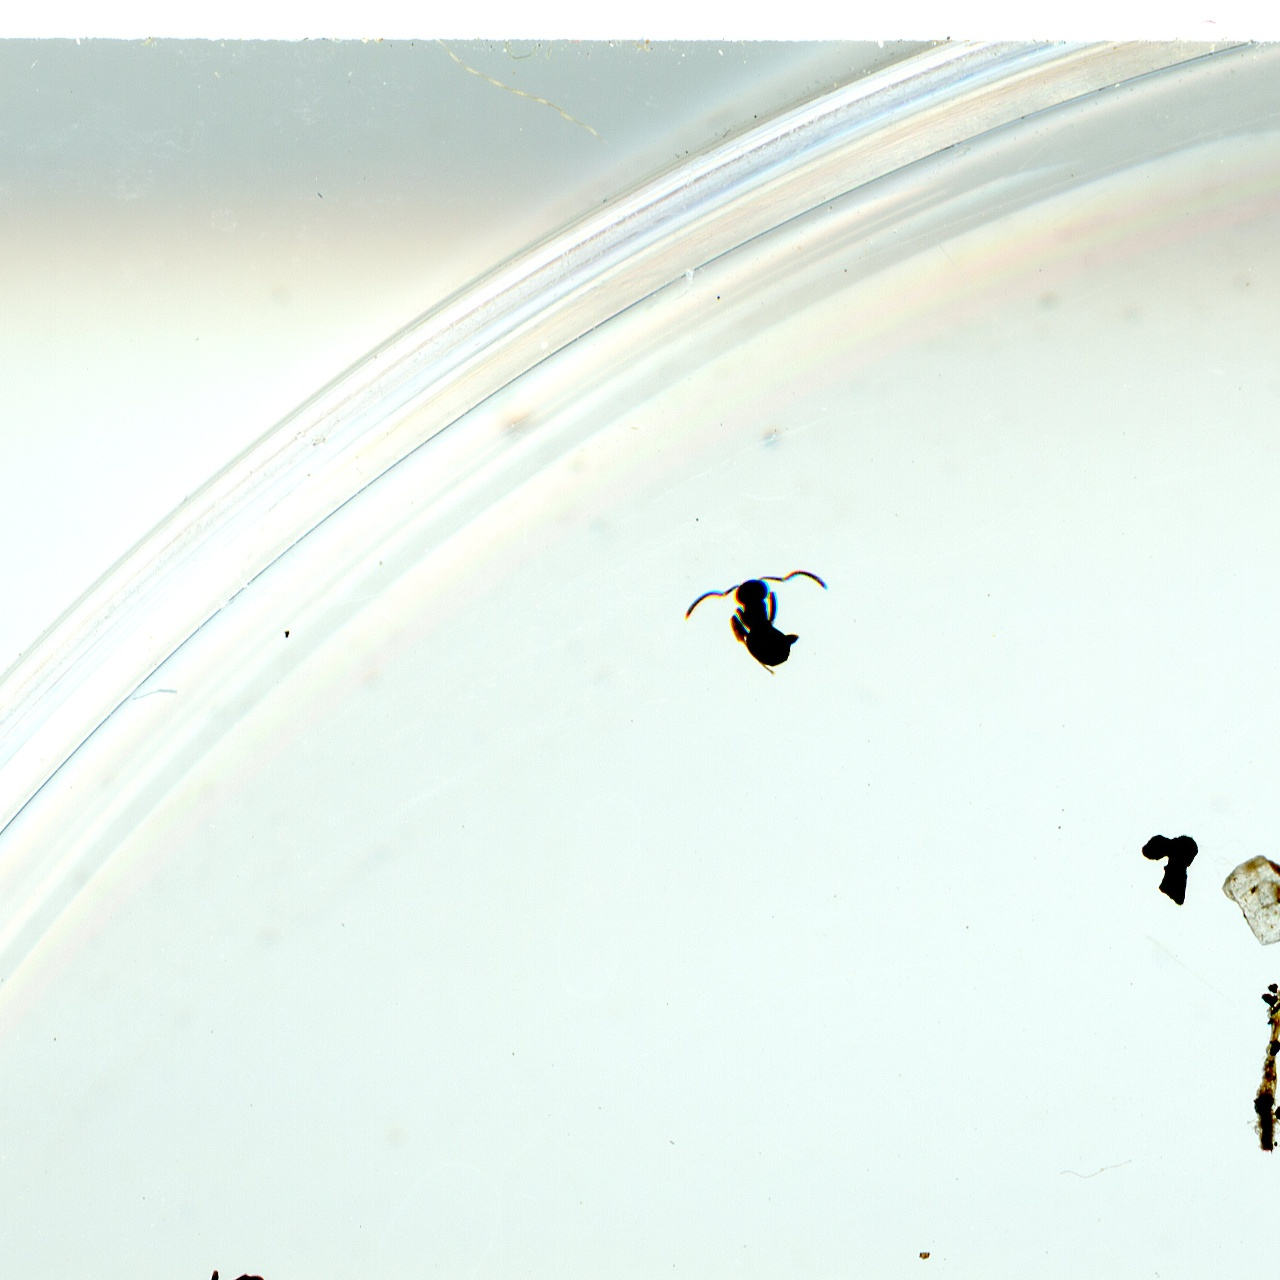arthropod: (666, 535, 830, 676), (105, 1254, 267, 1280)
